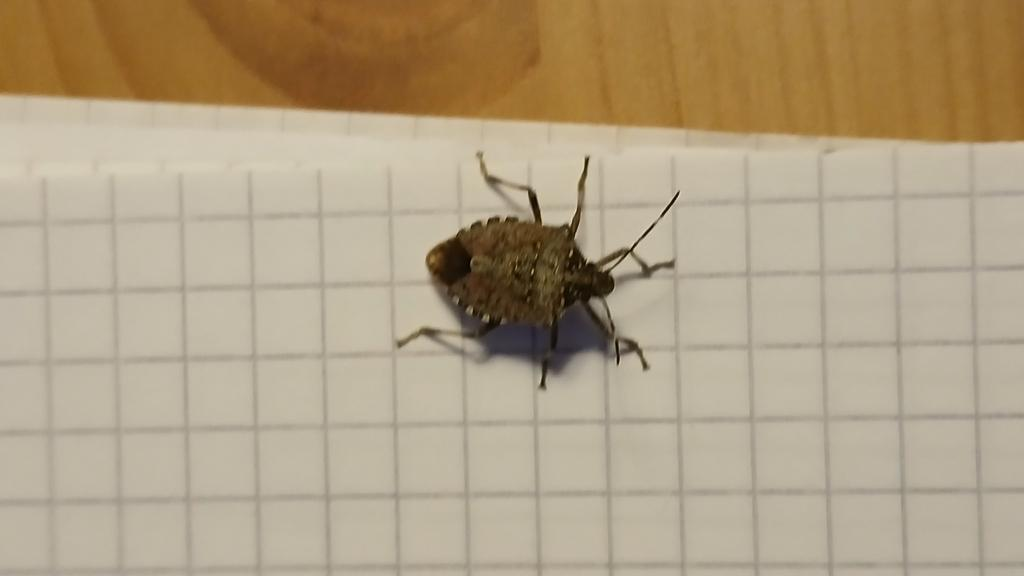stink_bugs: (349, 117, 719, 426)
